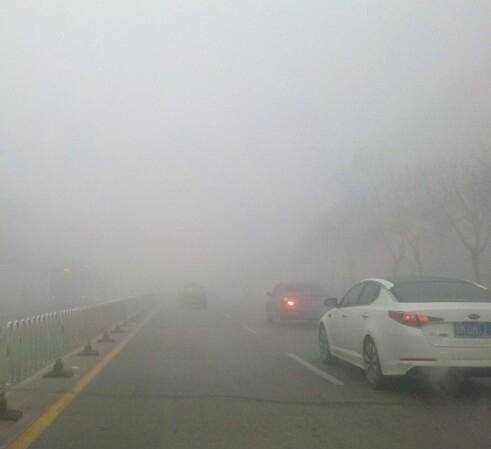car: (317, 273, 491, 386), (265, 279, 336, 325), (177, 282, 208, 310)
